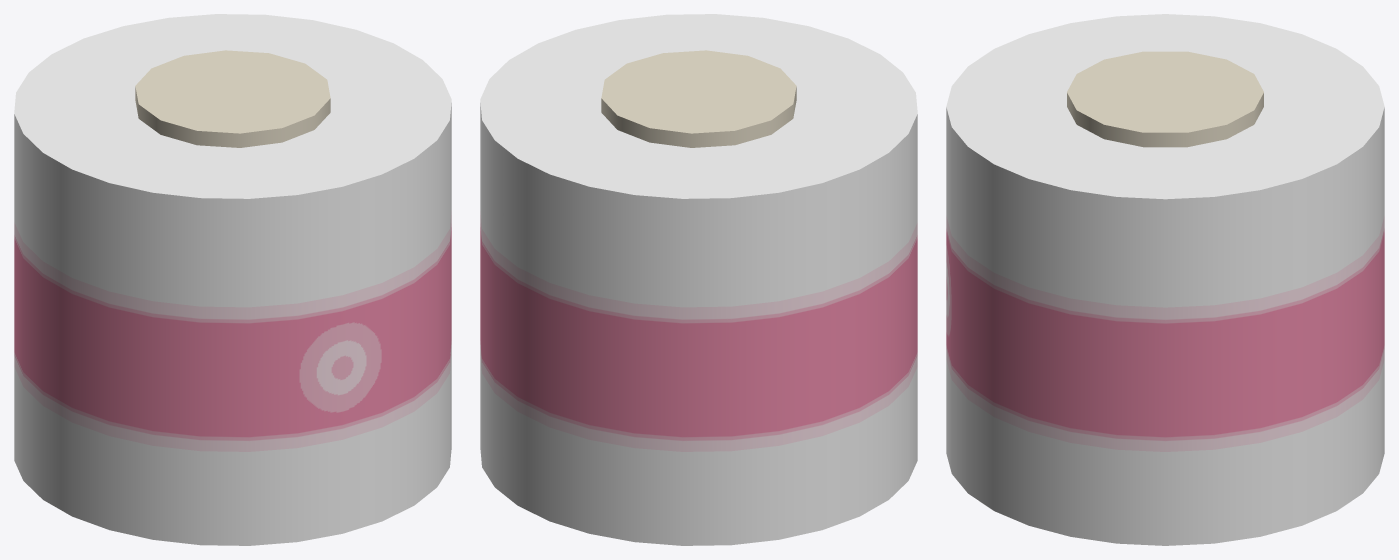
The model's file is Toilet_Paper.fbx.
3 views of the same model, side by side, from view 1: azimuth 30°, elevation 25°; view 2: azimuth 150°, elevation 25°; view 3: azimuth 270°, elevation 25° (orthographic).
Visible parts, largest first — view 1: Toilet_Paper; view 2: Toilet_Paper; view 3: Toilet_Paper.
Boxes of the visible parts, <box> form: Toilet_Paper: <box>14,14,451,545</box>; Toilet_Paper: <box>480,14,917,545</box>; Toilet_Paper: <box>946,14,1384,545</box>.
Bounding box in the file's own units: 0.11 × 0.104 × 0.11.
3 materials, 1 textured.
